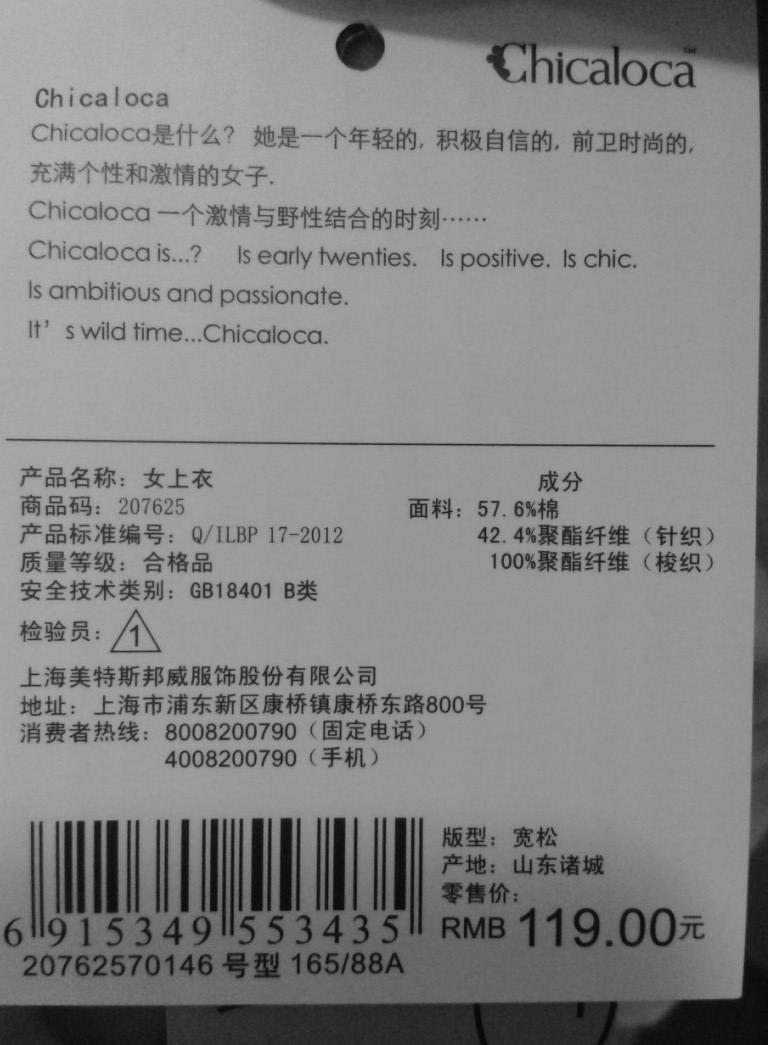Barcode: (11, 810, 440, 970)
